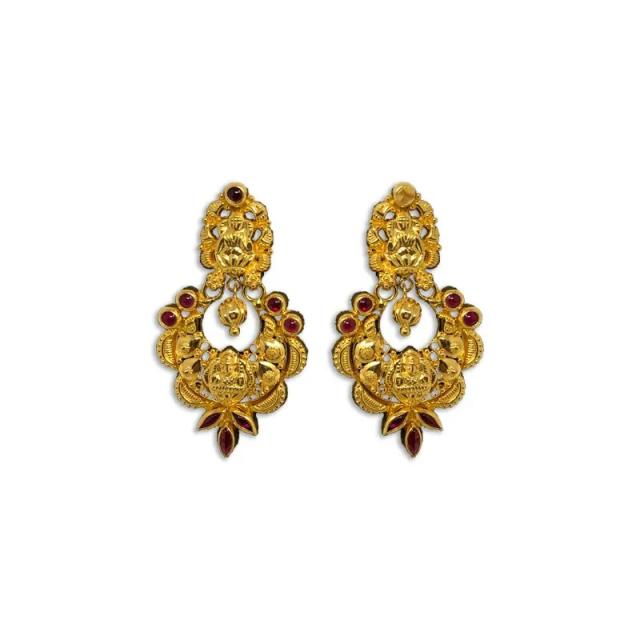missing gem: (395, 185, 414, 205)
